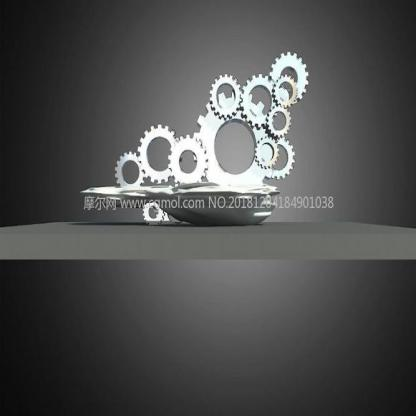FOD: (138, 122, 181, 185), (209, 70, 242, 121)
